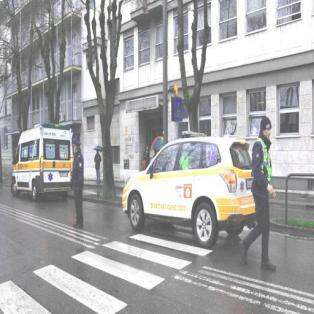Paso de Cebra: (66, 239, 212, 292)
